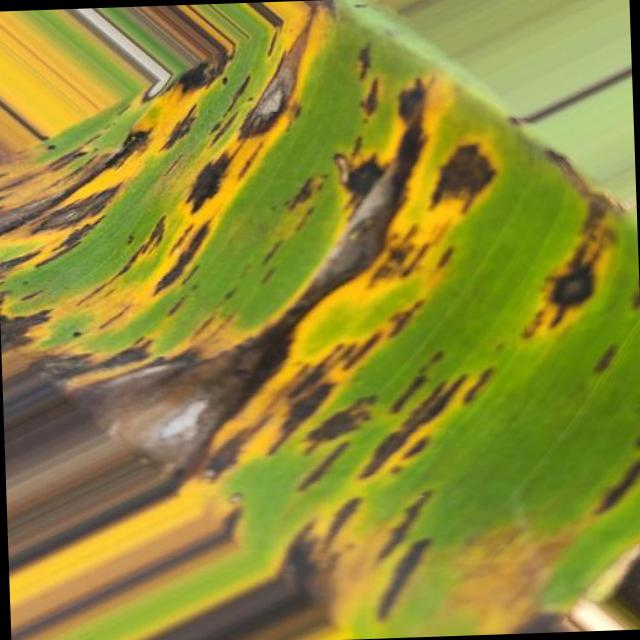Banana_Black_Sigatoka: (146, 202, 640, 600), (2, 70, 526, 328)
